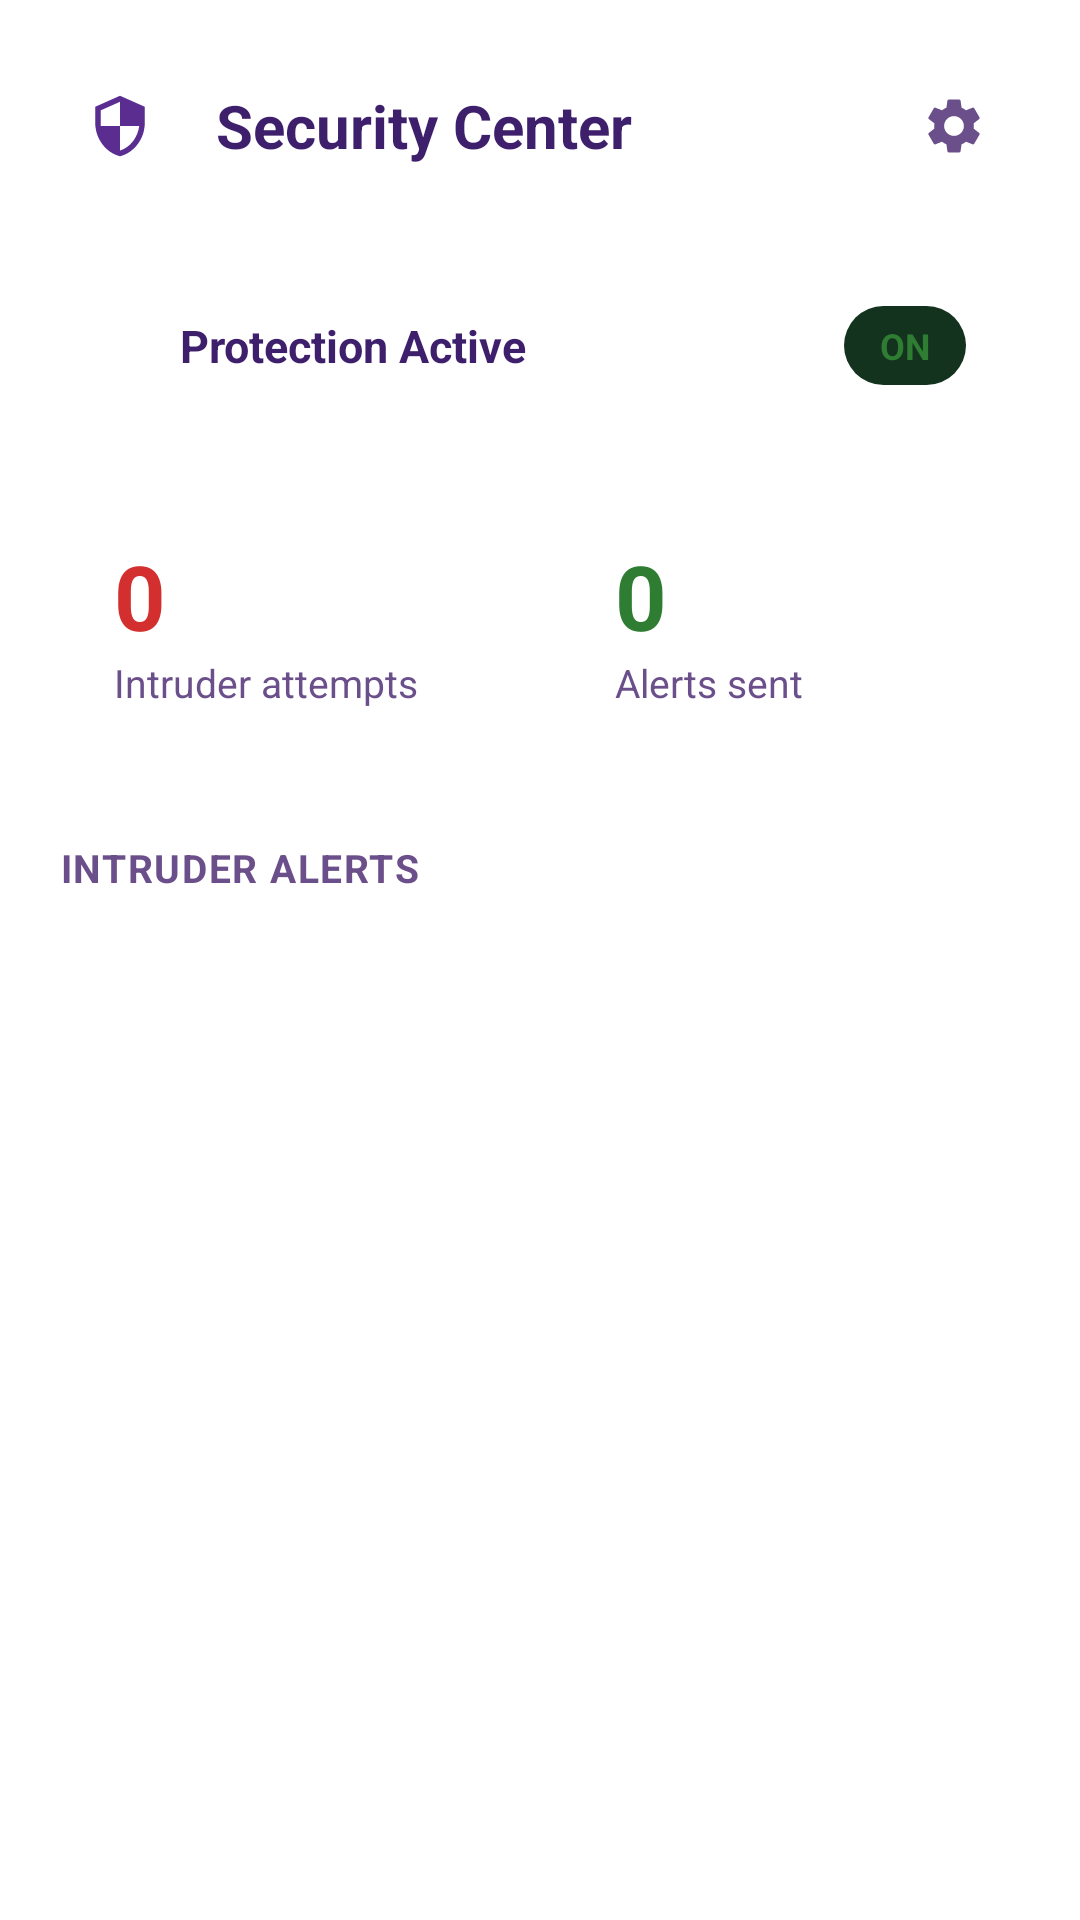

Named icons in this screenshot (1080 × 1920) and their centers, point (x, y):
settings: point (954, 126)
shield: point (120, 126)
